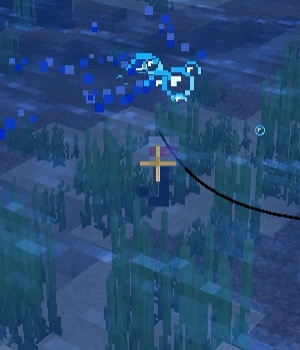down: (143, 127, 180, 215)
